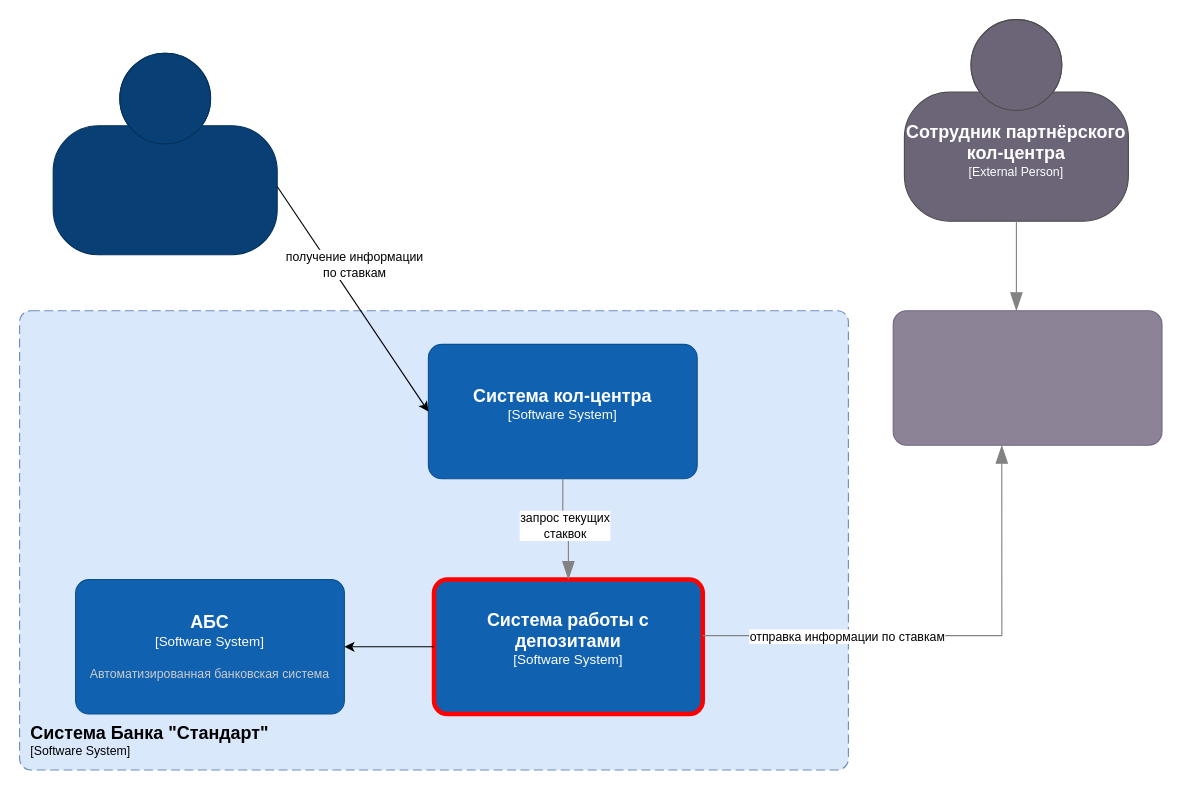
The diagram is 1182 pixels wide and 790 high, and some of its shapes have lost their labels. The shapes that lost their labels are listed below. From the top down, each one's centre as x and y in pixels, then its label:
point (164, 153): Оператор колл-центра [Person]
point (1027, 377): Система партнёрского кол-центра [Software System]
